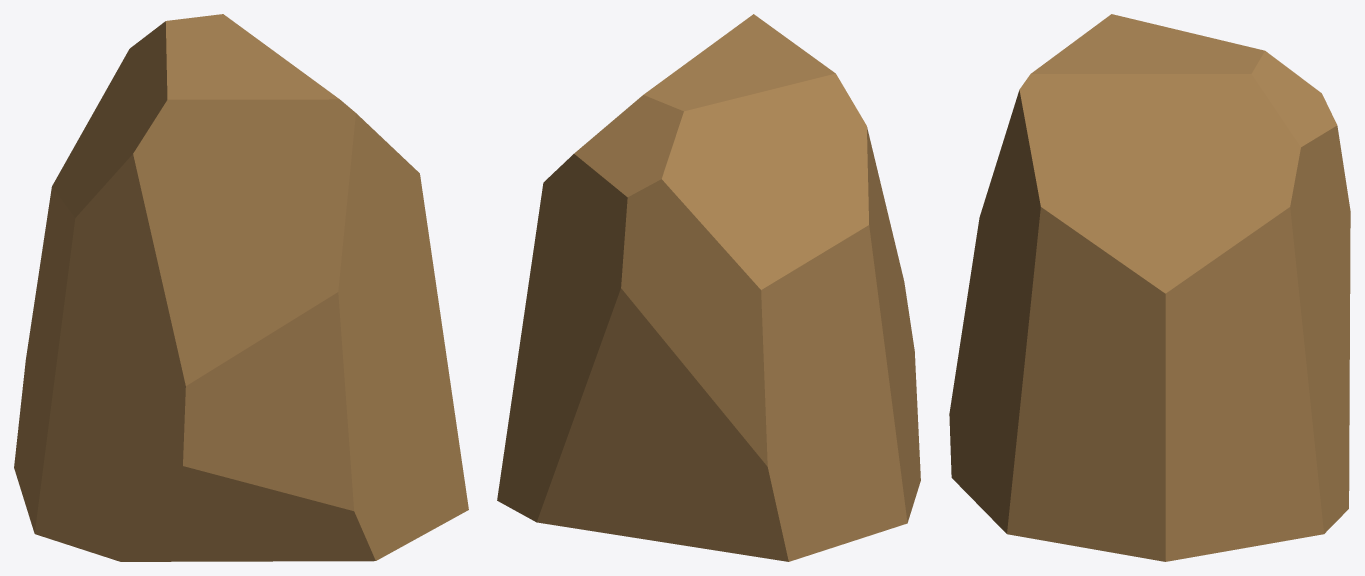
File: roca07.fbx
3 views of the same model, side by side, from view 1: azimuth 30°, elevation 25°; view 2: azimuth 150°, elevation 25°; view 3: azimuth 270°, elevation 25° (orthographic). The views are drawn at different scales.
Parts seen in each view (by area): view 1: small_rock_05_Cylinder_004; view 2: small_rock_05_Cylinder_004; view 3: small_rock_05_Cylinder_004.
Boxes of the visible parts, <box> form: small_rock_05_Cylinder_004: <box>14,14,468,561</box>; small_rock_05_Cylinder_004: <box>497,14,920,561</box>; small_rock_05_Cylinder_004: <box>949,14,1350,561</box>.
Size of the model in its own units: 79.04 by 79.04 by 70.68.
